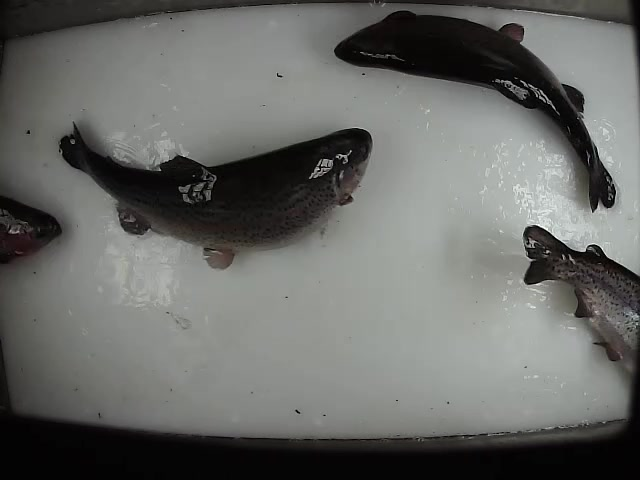fish: (329, 8, 619, 212), (56, 121, 377, 270), (519, 219, 640, 385), (1, 187, 62, 271)
